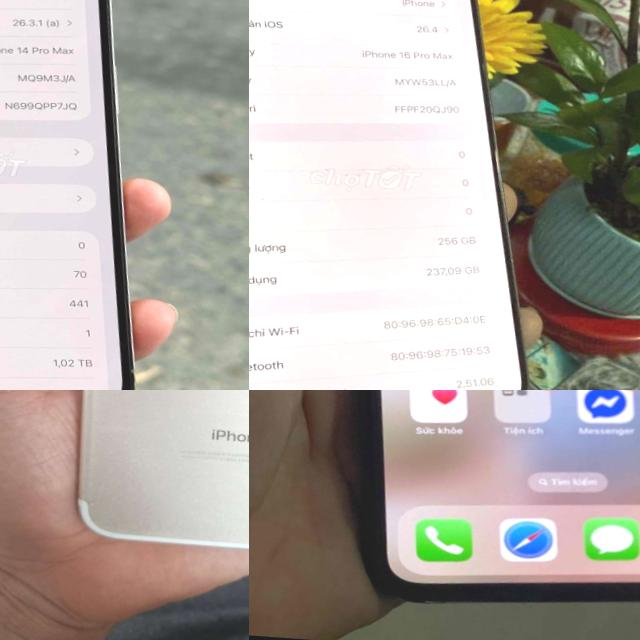gen_11: (290, 390, 640, 625)
gen_14: (0, 0, 174, 390)
gen_16: (249, 0, 524, 390)
gen_7_8: (40, 390, 249, 577)
